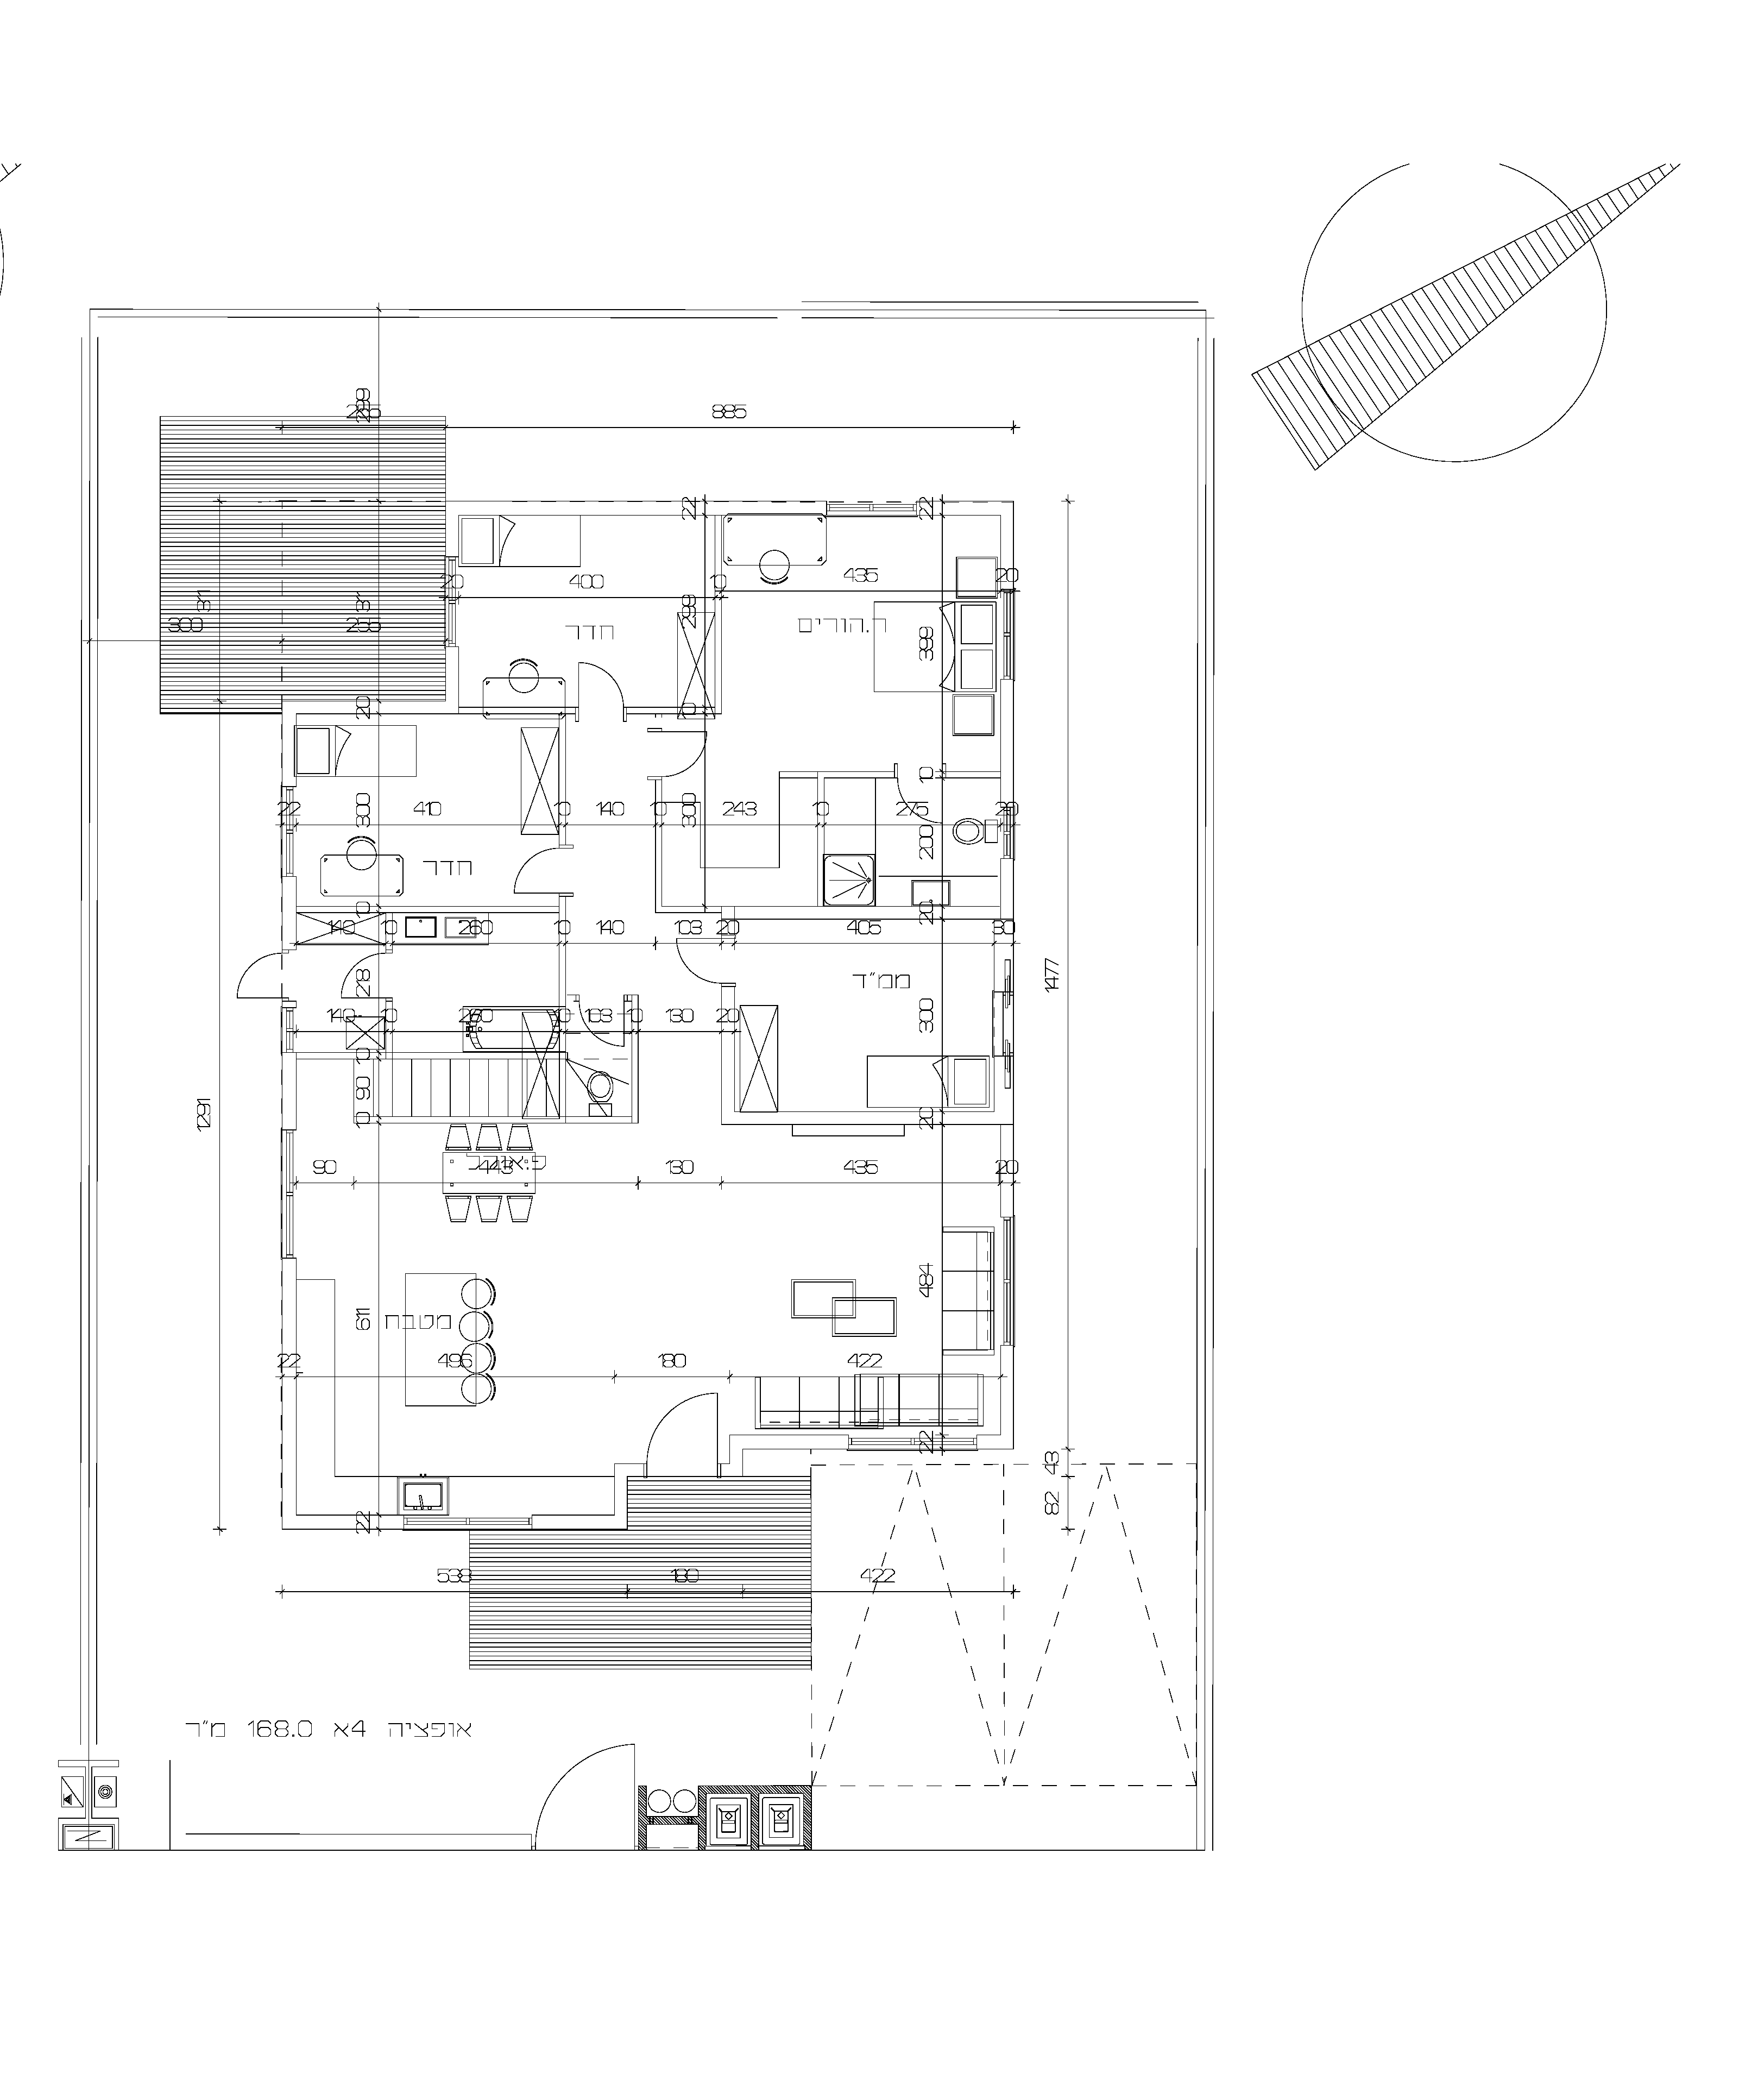door: (639, 1384, 726, 1456), (504, 838, 557, 906), (226, 945, 277, 1011), (576, 651, 628, 705), (658, 723, 705, 782)
window: (1005, 1216, 1012, 1344), (826, 504, 870, 511), (872, 504, 910, 511), (1005, 635, 1010, 675)
